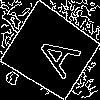A: (26, 26, 83, 80)
